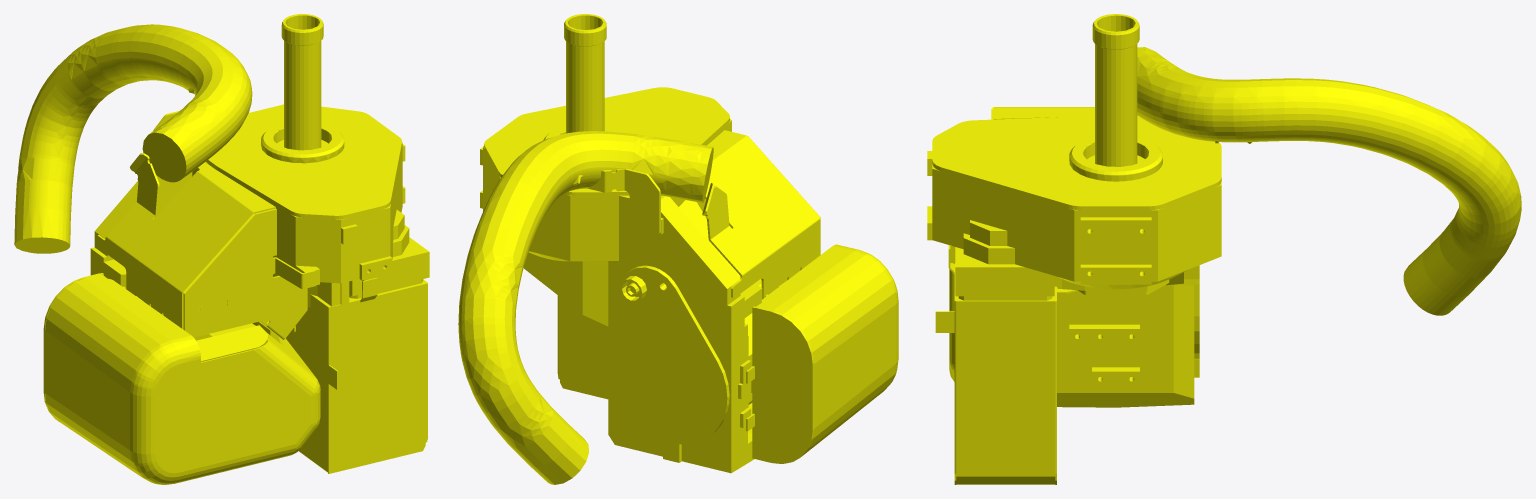
3 renders of one model, left to right at view 1: azimuth 30°, elevation 25°; view 2: azimuth 150°, elevation 25°; view 3: azimuth 270°, elevation 25°, orthographic. The views are drawn at different scales.
Visible parts, largest first — view 1: node; view 2: node; view 3: node.
Part boxes in pixels (left/top/right/bottom): node: left=14, top=14, right=429, bottom=484; node: left=458, top=14, right=898, bottom=484; node: left=927, top=14, right=1521, bottom=484.
Size of the model in its own units: 406 by 460 by 570.
